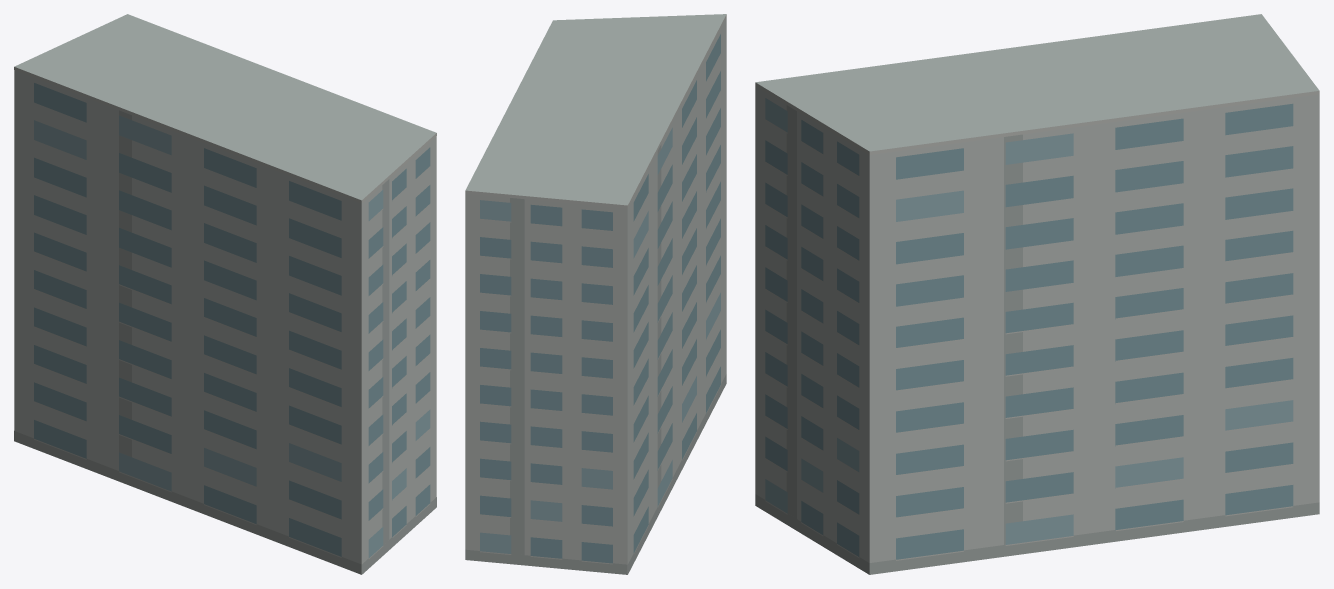
Rendered from residential-32533f23-e111-4cb1-9981-f2a5a22303bc.glb.
The picture shows the model from 3 angles, left to right: view 1: azimuth 30°, elevation 25°; view 2: azimuth 150°, elevation 25°; view 3: azimuth 270°, elevation 25°; orthographic projection. The views are drawn at different scales.
Parts seen in each view (by area): view 1: residential-32533f23-e111-4cb1-9981-f2a5a22303bc.tmp; view 2: residential-32533f23-e111-4cb1-9981-f2a5a22303bc.tmp; view 3: residential-32533f23-e111-4cb1-9981-f2a5a22303bc.tmp.
Boxes of the visible parts, x1=… form: residential-32533f23-e111-4cb1-9981-f2a5a22303bc.tmp: x1=14, y1=14, x2=436, y2=574; residential-32533f23-e111-4cb1-9981-f2a5a22303bc.tmp: x1=465, y1=14, x2=726, y2=574; residential-32533f23-e111-4cb1-9981-f2a5a22303bc.tmp: x1=755, y1=14, x2=1319, y2=574.
Bounding box in the file's own units: 19.51 × 28 × 33.83.
